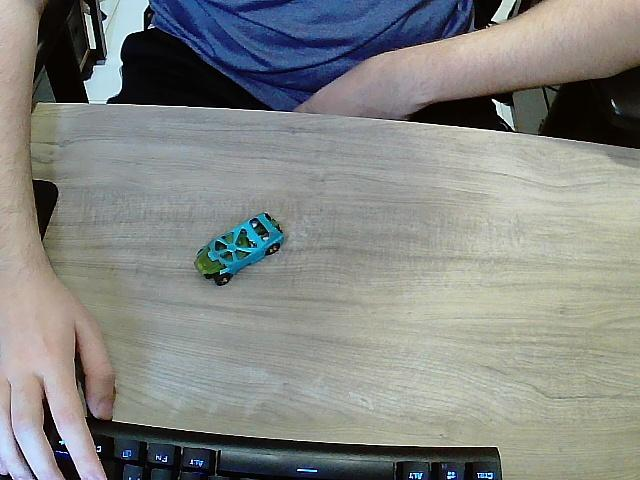Carro: (194, 214, 286, 288)
